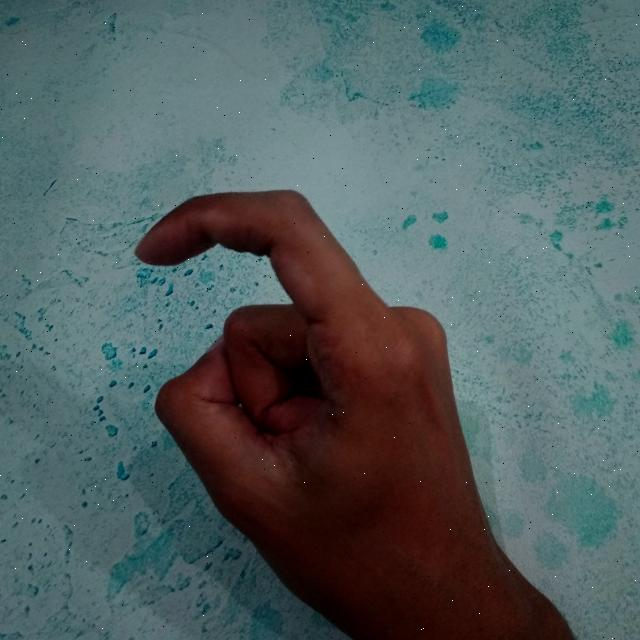X: (127, 177, 575, 640)
